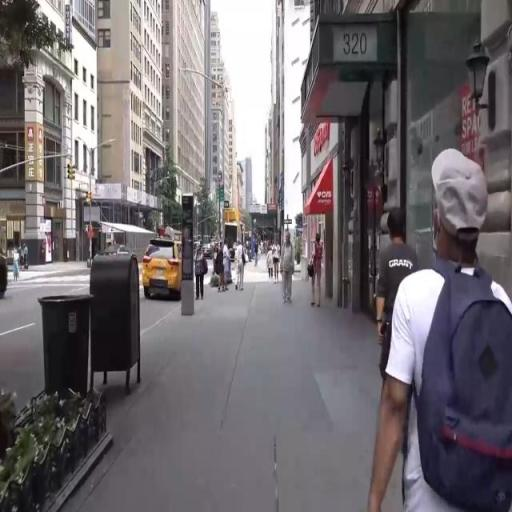person: (381, 158, 512, 512), (375, 209, 414, 355), (310, 233, 329, 308), (283, 233, 299, 304), (193, 241, 207, 305), (236, 237, 250, 297), (214, 236, 227, 293), (273, 237, 284, 283), (264, 240, 273, 280), (224, 242, 231, 285), (14, 248, 20, 284), (254, 238, 259, 271), (24, 243, 29, 272)
